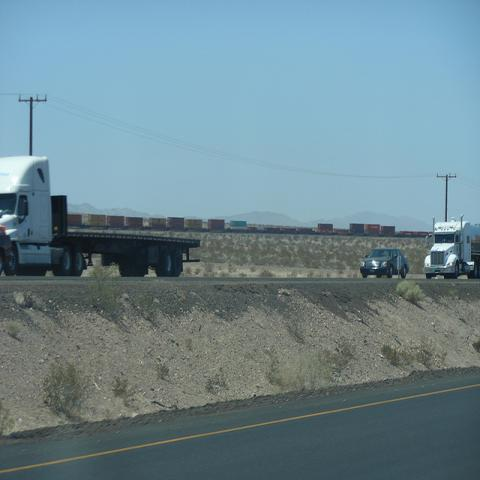car: (360, 247, 409, 278)
truck: (0, 155, 201, 281), (423, 213, 480, 281)
